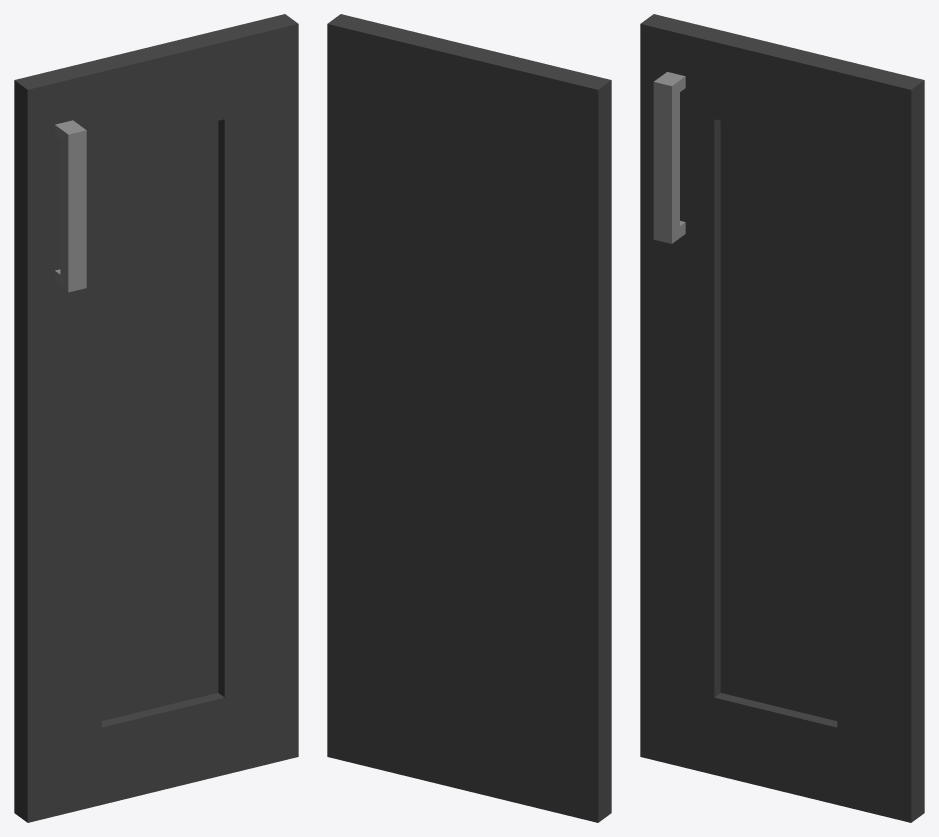
File: Door2_C3_03.fbx
3 views of the same model, side by side, from view 1: azimuth 30°, elevation 25°; view 2: azimuth 150°, elevation 25°; view 3: azimuth 330°, elevation 25° (orthographic).
Parts seen in each view (by area): view 1: Door2_C3_03; view 2: Door2_C3_03; view 3: Door2_C3_03.
Boxes of the visible parts, x1,y1,x2,y2 form: Door2_C3_03: [14, 14, 298, 822]; Door2_C3_03: [327, 14, 611, 822]; Door2_C3_03: [640, 14, 924, 822].
Size of the model in its own units: 29 by 75 by 5.03.
